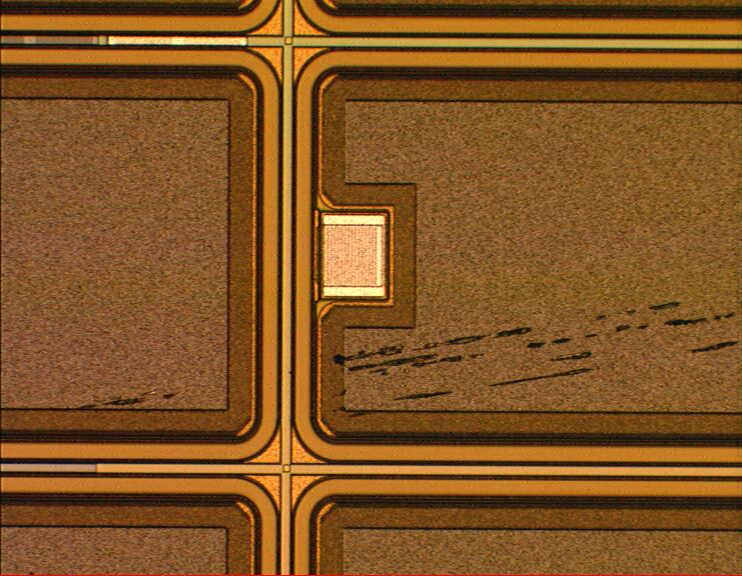SCRATCH: (57, 299, 742, 430)
